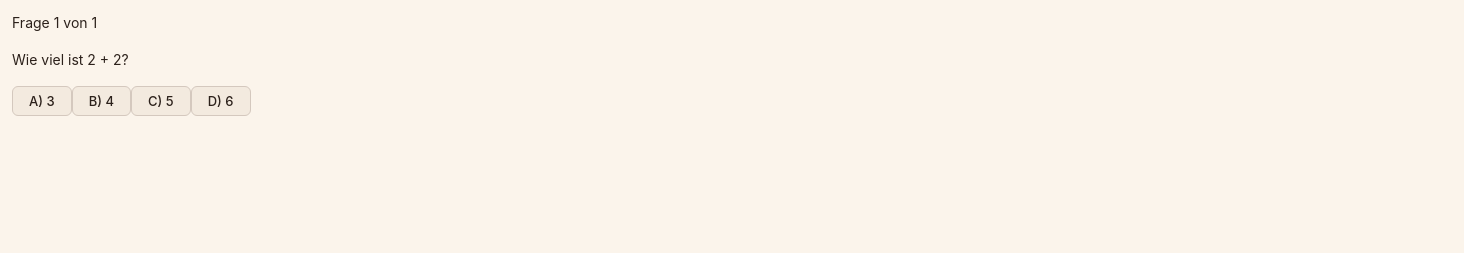
it: QuizSession — anklickbare Multiple-Choice-Antworten › meldet beim Klick auf eine Option sofort die Antwort, ohne separaten Einreichen-Schritt
Click the button "B) 4" at (101, 101), box [72,86,131,116]
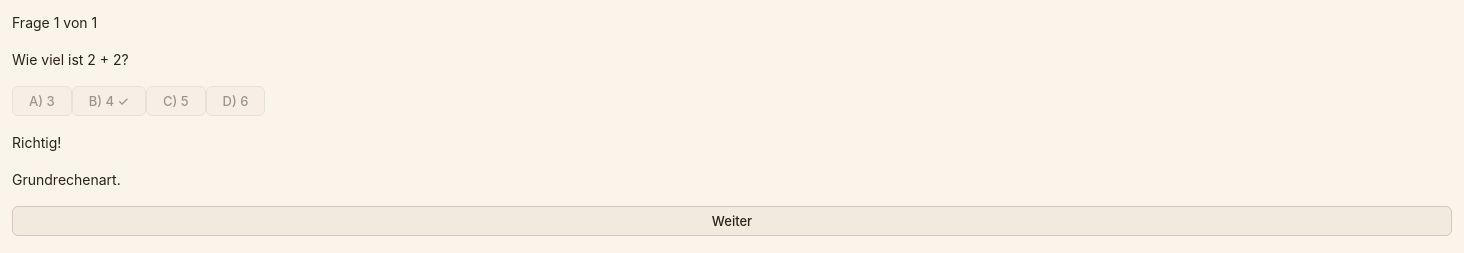
Result: the text "Richtig!" is shown at [12,134,61,151]
